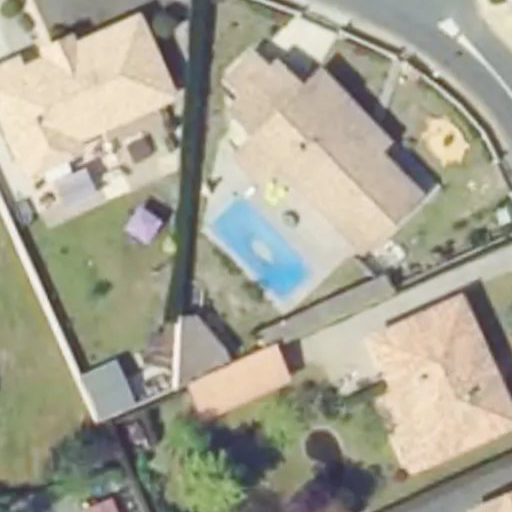pool: (210, 197, 311, 305)
